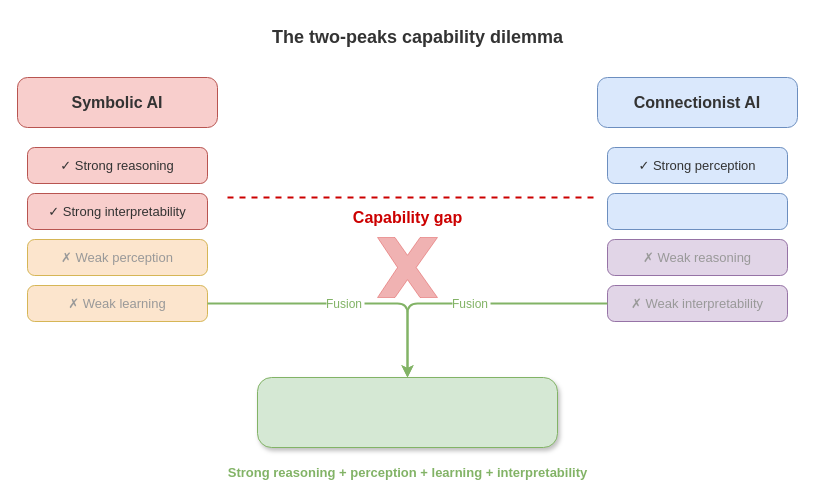
Image size: 815x504. Some labels were removed from this diagram. The shapes that lost their labels are listed below. From the top down, each one's centre as x and y in pixels, then its label:
point (697, 211): ✓ Strong learning
point (408, 413): Neuro-symbolic AI Unifies symbolic reasoning and deep learning
